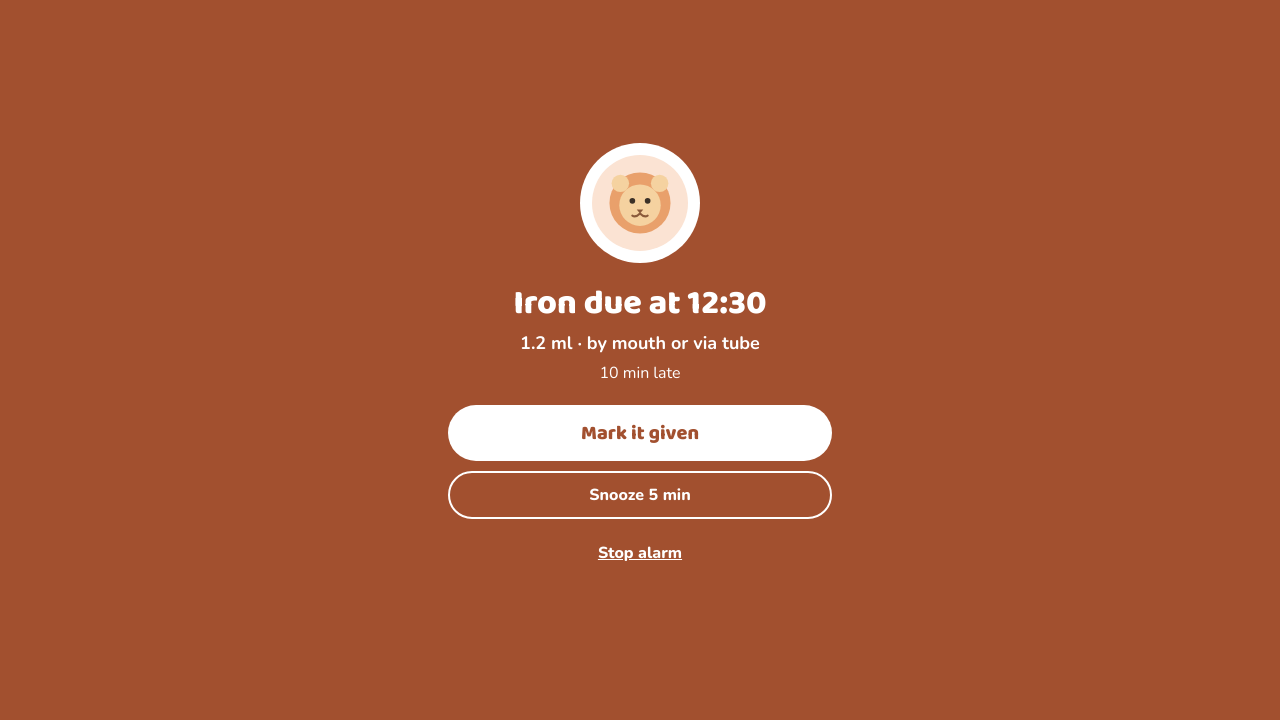
it: Alarm screen › rings full screen for an alarm and stops or snoozes it
The image size is (1280, 720).
Expected: the text "10 min late" is shown, [599, 362, 681, 384]
Click the button "Snooze 5 min".
click(640, 495)  # box [448, 471, 832, 519]
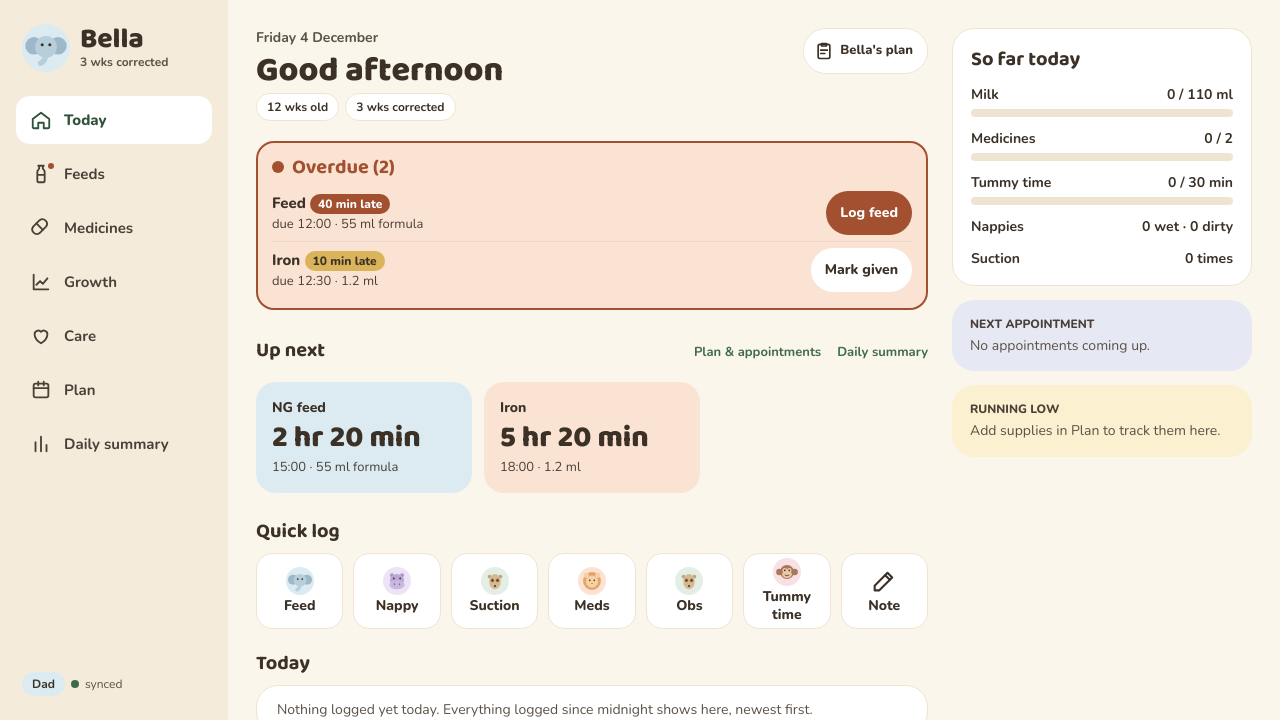
Expected: the dialog is gone
